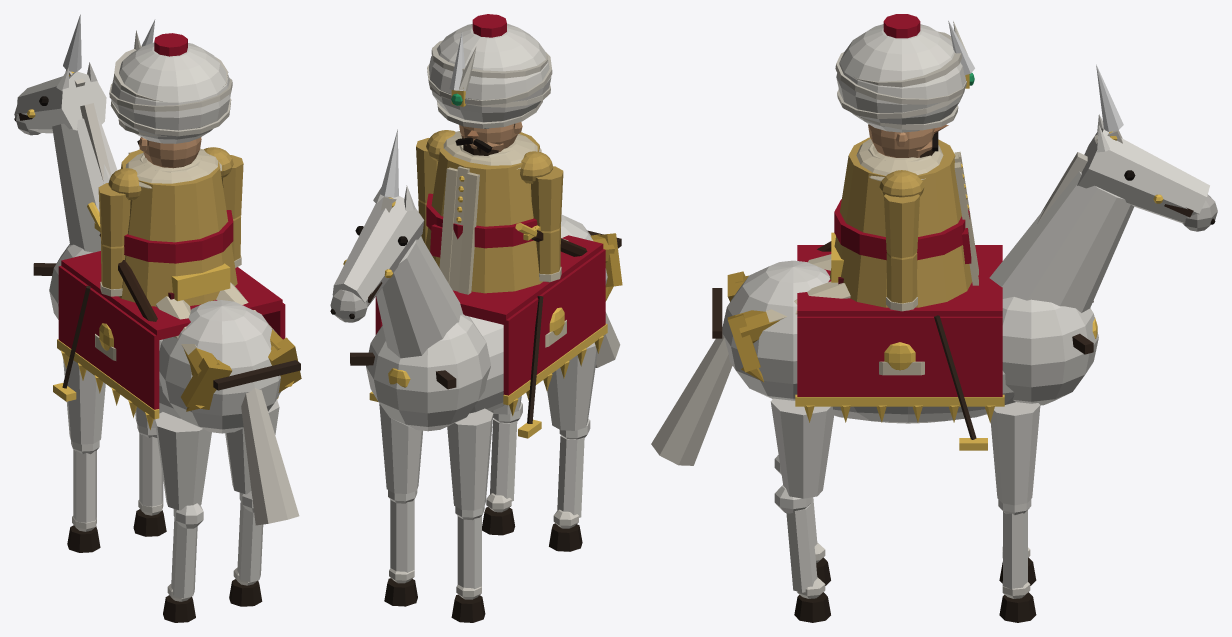
The model's file is padisah.glb.
3 views of the same model, side by side, from view 1: azimuth 30°, elevation 25°; view 2: azimuth 150°, elevation 25°; view 3: azimuth 270°, elevation 25° (orthographic). The views are drawn at different scales.
Parts seen in each view (by area): view 1: at_govde, govde, bas, at_boyun, at_bacak2, at_bacak0, at_kuyruk, at_bacak3, at_bacak1, kolL, bacakL, bacakR (+1 smaller); view 2: at_govde, govde, at_boyun, bas, at_bacak0, at_bacak2, at_bacak1, at_bacak3, kolL, kolR, bacakL, at_kuyruk; view 3: at_govde, at_boyun, govde, bas, at_bacak3, at_bacak1, at_kuyruk, kolR, bacakR.
Boxes of the visible parts, x1,y1,x2,y2 form: at_govde: [33, 244, 300, 433]; govde: [87, 147, 237, 360]; bas: [109, 19, 232, 168]; at_boyun: [14, 14, 117, 252]; at_bacak2: [154, 412, 211, 622]; at_bacak0: [63, 358, 105, 552]; at_kuyruk: [241, 387, 299, 525]; at_bacak3: [225, 399, 279, 606]; at_bacak1: [133, 407, 166, 536]; kolL: [98, 183, 130, 296]; bacakL: [156, 296, 232, 411]; bacakR: [216, 282, 301, 392]; at_govde: [350, 214, 621, 438]; govde: [425, 130, 587, 347]; at_boyun: [330, 129, 462, 358]; bas: [427, 14, 552, 155]; at_bacak0: [447, 408, 493, 622]; at_bacak2: [547, 342, 597, 551]; at_bacak1: [379, 403, 422, 606]; at_bacak3: [482, 396, 522, 535]; kolL: [531, 166, 563, 282]; kolR: [416, 138, 437, 244]; bacakL: [561, 233, 622, 301]; at_kuyruk: [595, 312, 620, 367]; at_govde: [712, 232, 1098, 450]; at_boyun: [989, 64, 1217, 312]; govde: [817, 137, 978, 375]; bas: [835, 14, 974, 157]; at_bacak3: [770, 398, 834, 622]; at_bacak1: [990, 402, 1040, 622]; at_kuyruk: [651, 331, 732, 465]; kolR: [884, 194, 919, 311]; bacakR: [727, 281, 850, 381].
Size of the model in its own units: 0.94 by 3.12 by 2.76.
